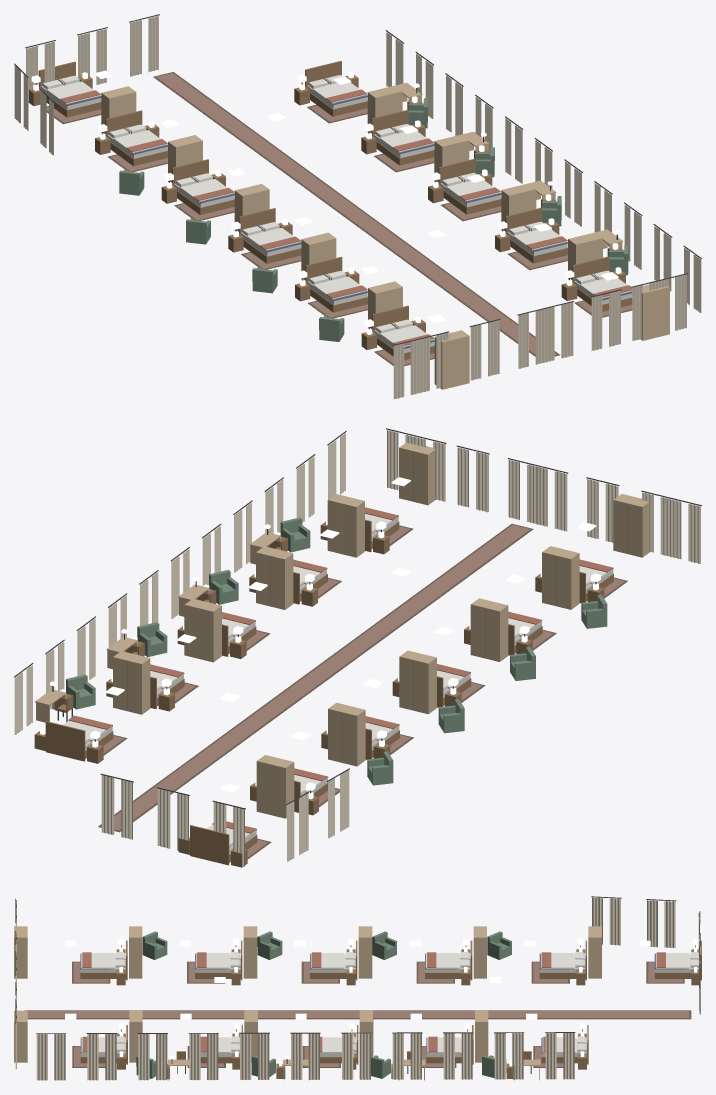
Rendered from fine-s2.glb.
3 renders of one model, top to bottom at view 1: azimuth 30°, elevation 25°; view 2: azimuth 150°, elevation 25°; view 3: azimuth 270°, elevation 25°, orthographic. The views are drawn at different scales.
Visible parts, largest first — view 1: soft-s2, dresser.021, dresser.015, bed-frame.013, bed-frame.019, bed-frame.012, bed-frame.014, bed-frame.020, bed-frame.017, bed-frame.011, bed-frame.018, bed-frame.016 (+14 smaller); view 2: soft-s2, dresser.019, dresser.017, dresser.018, dresser.020, dresser.016, dresser.021, dresser.011, dresser.013, dresser.012, dresser.014, dresser.015 (+10 smaller); view 3: soft-s2, dresser.018, dresser.019, dresser.016, dresser.017, dresser.020, dresser.011, dresser.021, dresser.015, dresser.014, lounge-chair.014, lounge-chair.015 (+15 smaller).
Part boxes in pixels (bbox=[...]): soft-s2: bbox=[14, 14, 701, 399]; dresser.021: bbox=[434, 330, 469, 389]; dresser.015: bbox=[641, 284, 669, 340]; bed-frame.013: bbox=[438, 158, 501, 214]; bed-frame.019: bbox=[238, 208, 301, 263]; bed-frame.012: bbox=[371, 109, 434, 165]; bed-frame.014: bbox=[505, 207, 567, 263]; bed-frame.020: bbox=[305, 256, 367, 312]; bed-frame.017: bbox=[105, 110, 167, 166]; bed-frame.011: bbox=[305, 61, 367, 116]; bed-frame.018: bbox=[172, 159, 234, 214]; bed-frame.016: bbox=[38, 61, 101, 117]; soft-s2: bbox=[14, 428, 701, 866]; dresser.019: bbox=[470, 598, 508, 661]; dresser.017: bbox=[328, 702, 365, 766]; dresser.018: bbox=[399, 650, 436, 714]; dresser.020: bbox=[542, 546, 579, 609]; dresser.016: bbox=[256, 755, 294, 818]; dresser.021: bbox=[613, 494, 649, 557]; dresser.011: bbox=[113, 651, 150, 714]; dresser.013: bbox=[256, 546, 293, 609]; dresser.012: bbox=[184, 598, 221, 662]; dresser.014: bbox=[327, 494, 364, 557]; dresser.015: bbox=[399, 442, 435, 505]; soft-s2: bbox=[15, 896, 700, 1080]; dresser.018: bbox=[358, 926, 372, 978]; dresser.019: bbox=[243, 926, 257, 978]; dresser.016: bbox=[588, 926, 601, 978]; dresser.017: bbox=[473, 926, 486, 978]; dresser.020: bbox=[129, 926, 142, 978]; dresser.011: bbox=[475, 1010, 488, 1062]; dresser.021: bbox=[14, 926, 27, 978]; dresser.015: bbox=[14, 1010, 27, 1062]; dresser.014: bbox=[129, 1010, 142, 1062]; lounge-chair.014: bbox=[257, 931, 282, 959]; lounge-chair.015: bbox=[142, 931, 167, 959].
Bounding box in the file's own units: 14.41 × 2.36 × 30.55.
